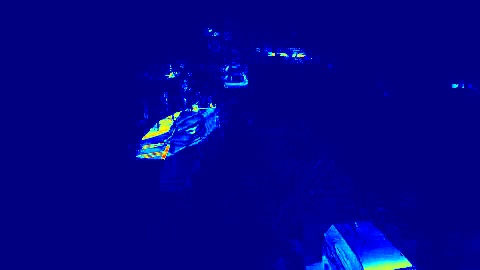vehicle: (145, 101, 220, 170), (326, 221, 410, 270), (213, 63, 257, 90)
